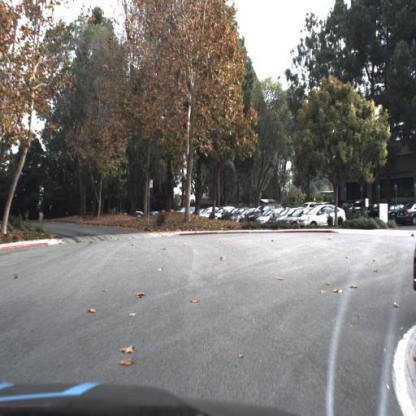car: (298, 205, 348, 229), (258, 207, 298, 233), (395, 202, 416, 232)
